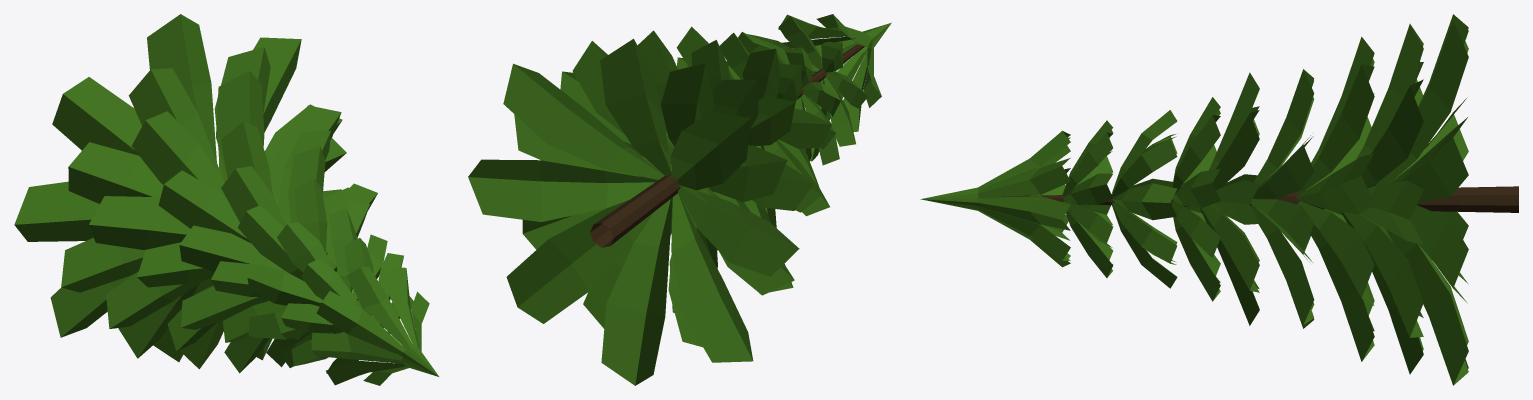
File: tree.obj
3 views of the same model, side by side, from view 1: azimuth 30°, elevation 25°; view 2: azimuth 150°, elevation 25°; view 3: azimuth 270°, elevation 25° (orthographic). The views are drawn at different scales.
Visible parts, largest first — view 1: Fir-tree_Cylinder.002; view 2: Fir-tree_Cylinder.002; view 3: Fir-tree_Cylinder.002.
Part boxes in pixels (x1,y1,x2,y2): Fir-tree_Cylinder.002: (14, 14, 438, 385); Fir-tree_Cylinder.002: (468, 14, 891, 385); Fir-tree_Cylinder.002: (920, 14, 1518, 385).
Bounding box in the file's own units: 37.7 × 37.72 × 57.13.
